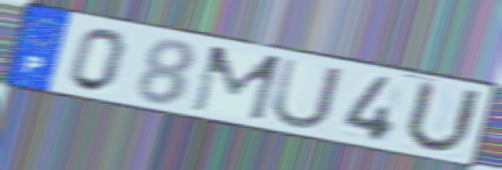0: (65, 26, 129, 94)
4: (341, 73, 398, 142)
8: (134, 37, 200, 109)
M: (186, 43, 286, 124)
U: (400, 77, 486, 156), (268, 55, 346, 132)
